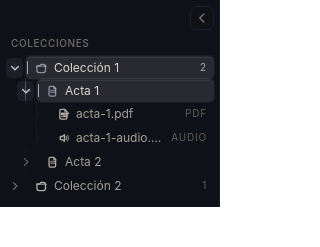
Test: DocumentExplorer › expands document nodes without navigating and lazy-loads assets
Click the button named "Expandir documento Acta 2".
click(26, 162)  # box x1=17 y1=152 x2=34 y2=172
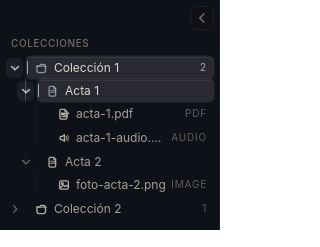
Expected: the list item "foto-acta-2.png" is shown, x1=48 y1=173 x2=214 y2=196
